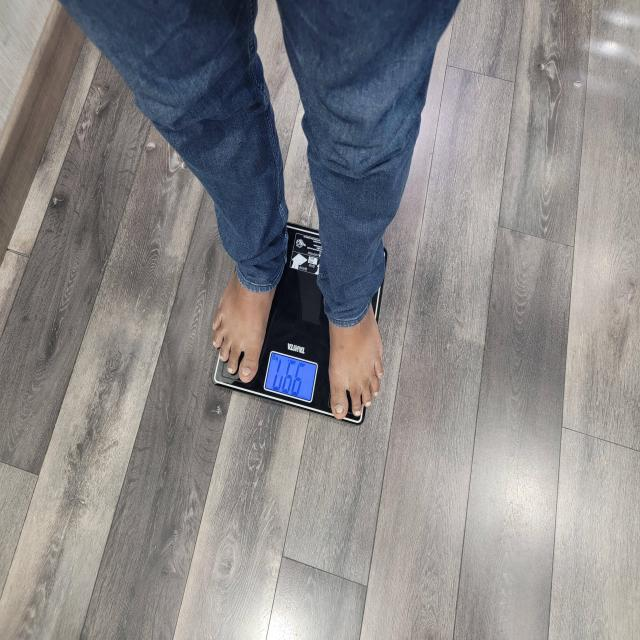ws: (216, 266, 333, 415)
